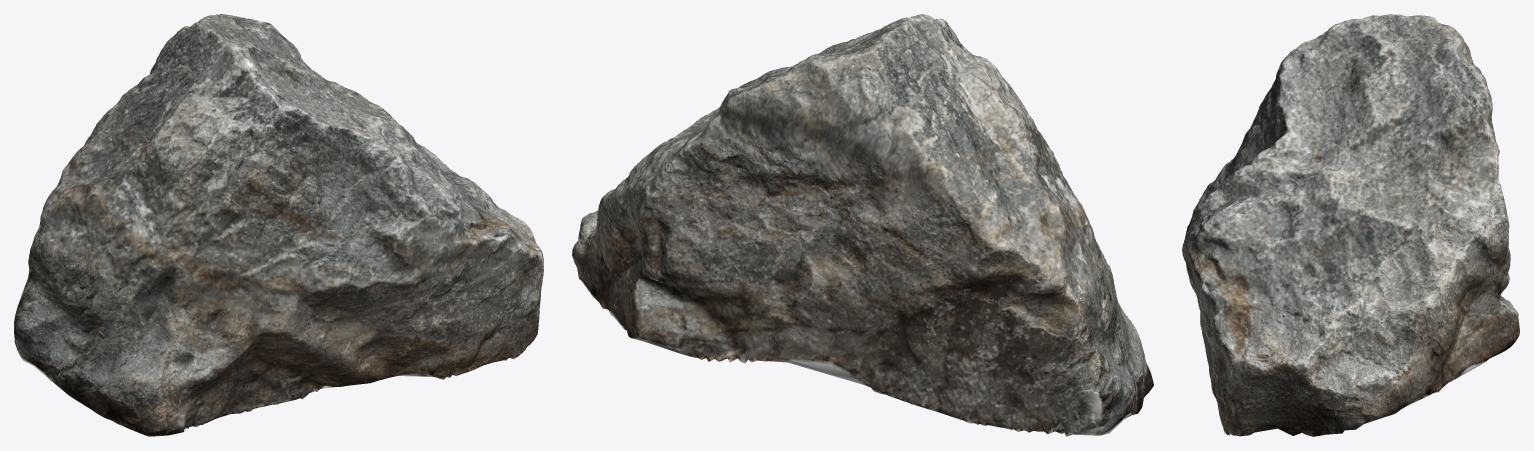
The model's file is sparse3.glb.
The picture shows the model from 3 angles, left to right: view 1: azimuth 30°, elevation 25°; view 2: azimuth 150°, elevation 25°; view 3: azimuth 270°, elevation 25°; orthographic projection. The views are drawn at different scales.
Size of the model in its own units: 5.04 by 3.32 by 3.11.
Materials: 1 (1 with a texture image).
